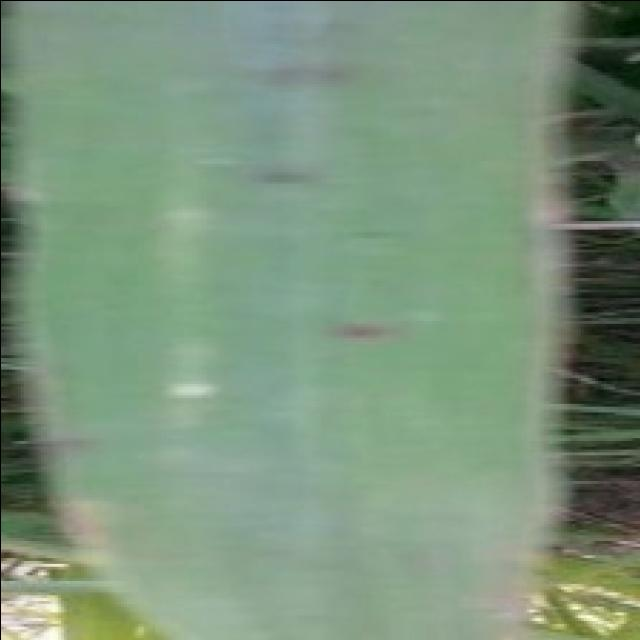Unhealthy: (29, 436, 101, 476), (259, 59, 356, 84), (249, 165, 317, 186), (327, 320, 390, 339)
